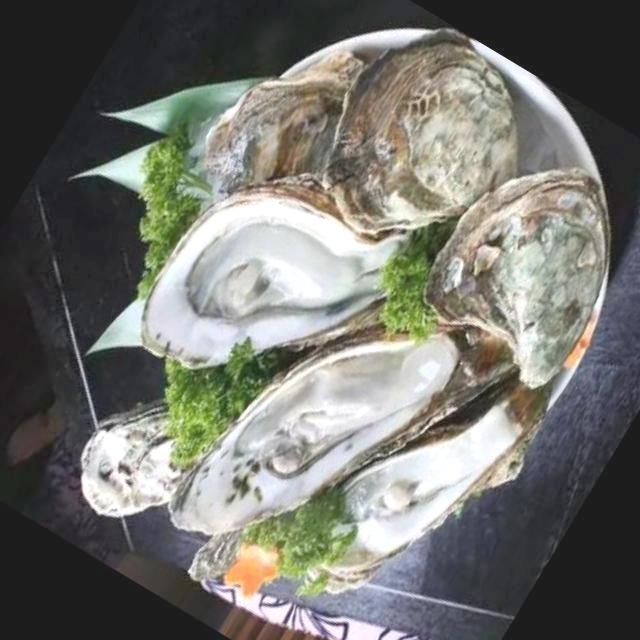Oyster-Closed: (326, 30, 522, 236), (426, 168, 610, 386), (204, 47, 370, 205)
Oyster-Open: (168, 320, 460, 538), (144, 173, 408, 371), (302, 388, 544, 596), (81, 400, 221, 520)
